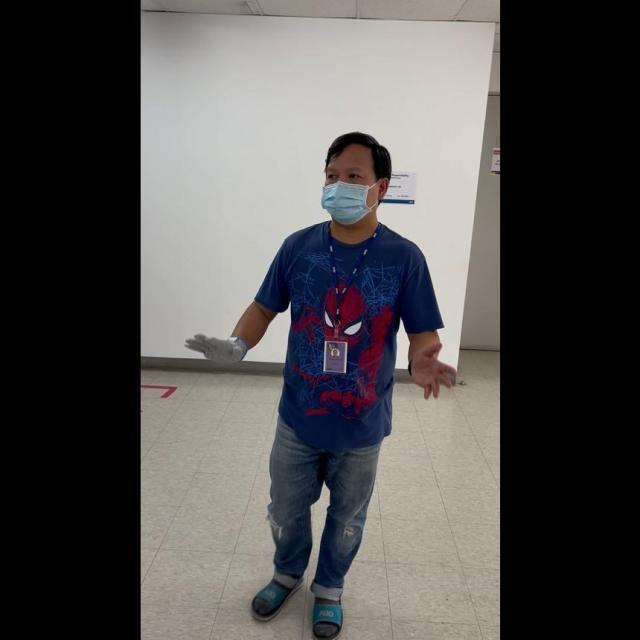bare_hand: (406, 342, 455, 400)
gloved_hand: (184, 325, 250, 367)
